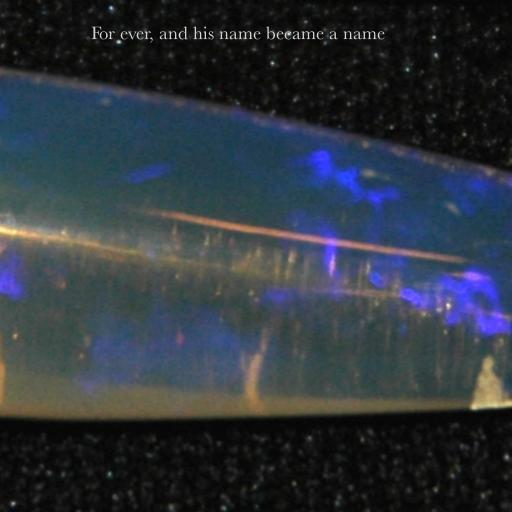Baskerville: (91, 26, 385, 43)
